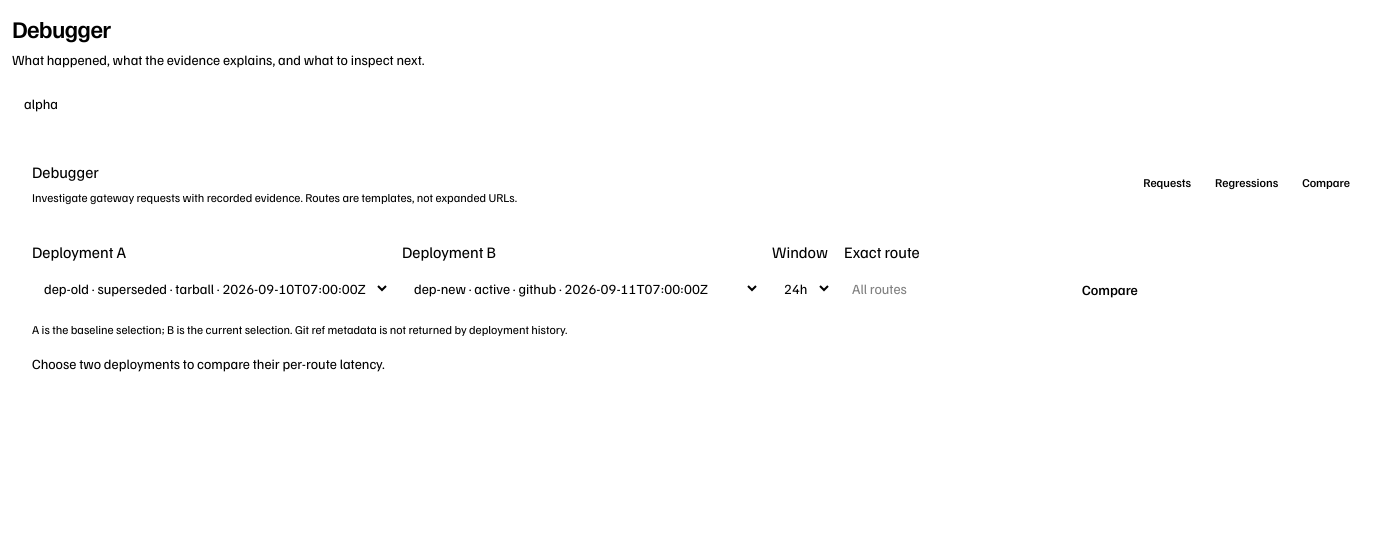
Test: Debugger investigation navigation › does not label a zero current percentile as infinitely faster or a missing side as both sides missing
Click the button "Compare" below "Window".
click(1110, 290)  # box x1=1070 y1=274 x2=1150 y2=306
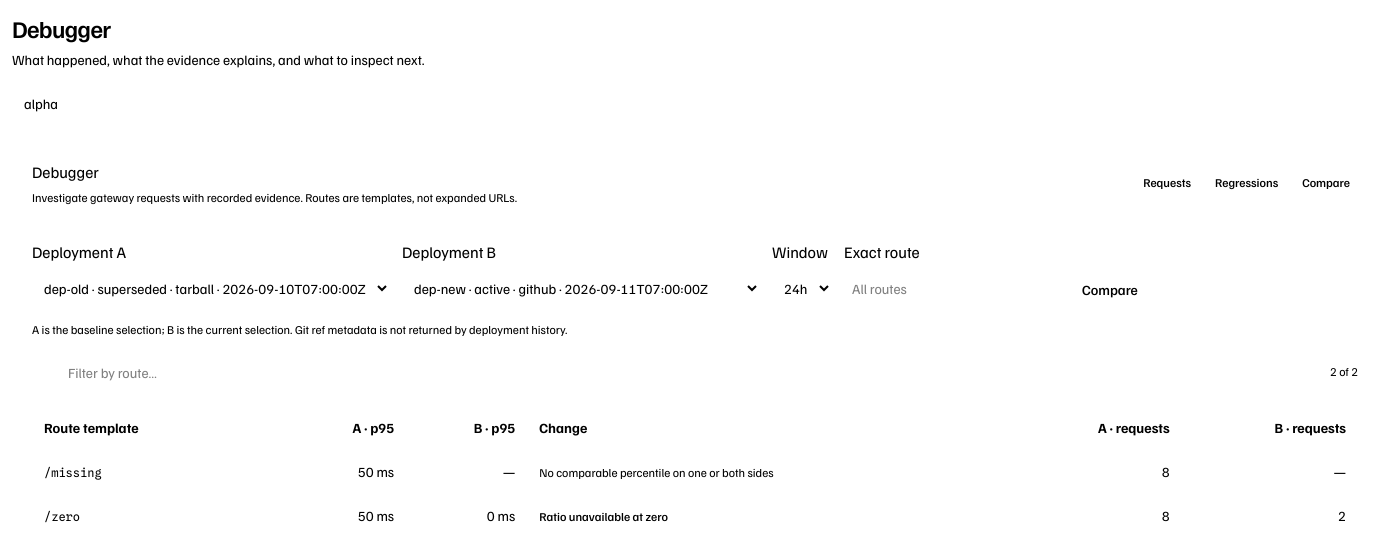
Check: the text "/zero" is shown, box x1=44 y1=509 x2=80 y2=524
Check: the text "No comparable percentile on one or both sides" is shown, box x1=539 y1=465 x2=774 y2=480
Check: the text "Ratio unavailable at zero" is shown, box x1=539 y1=509 x2=668 y2=524
